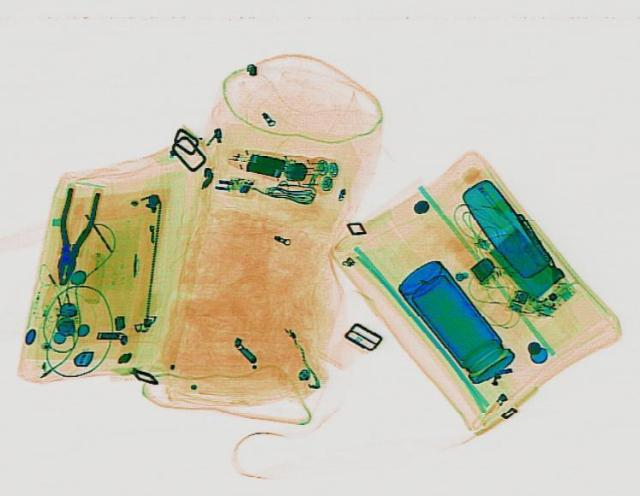Pliers: (42, 184, 102, 284)
